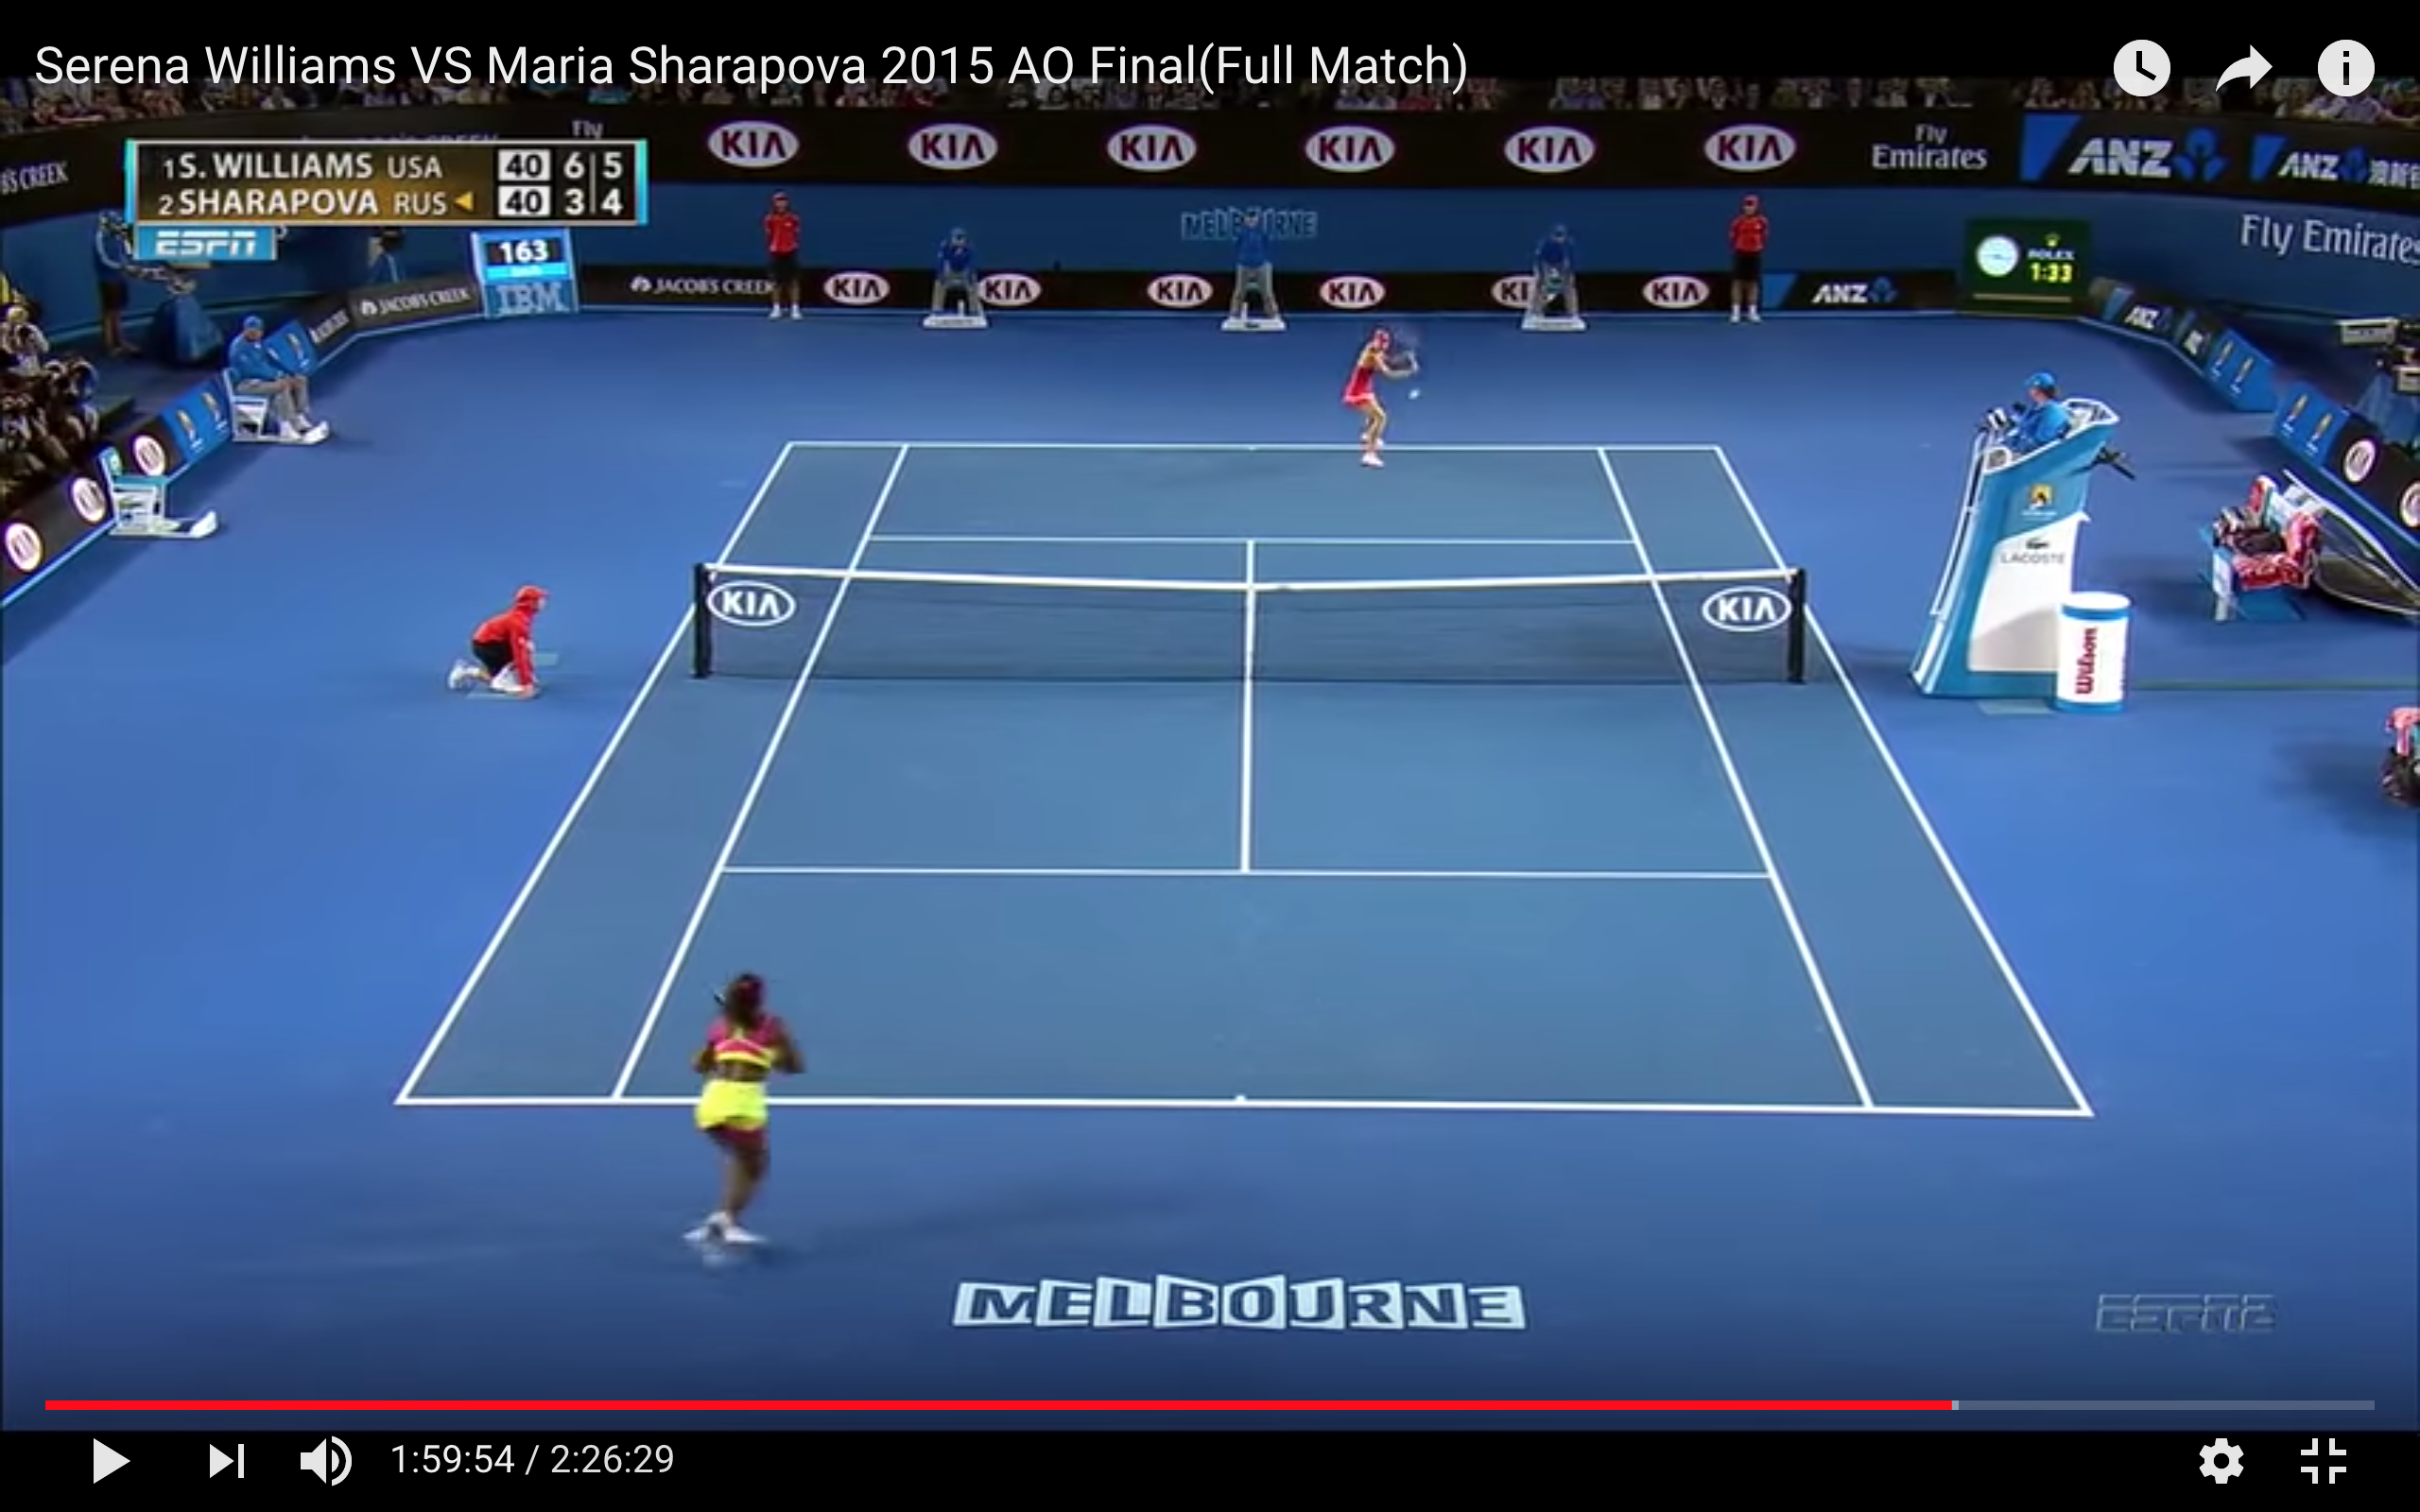tennis ball: (1407, 387, 1423, 403)
tennis player: (683, 970, 811, 1278), (1340, 309, 1418, 471)
